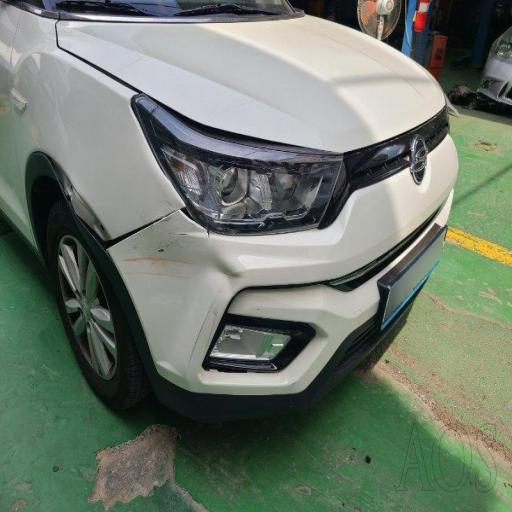broken: (88, 191, 199, 317)
dent: (202, 221, 285, 324)
